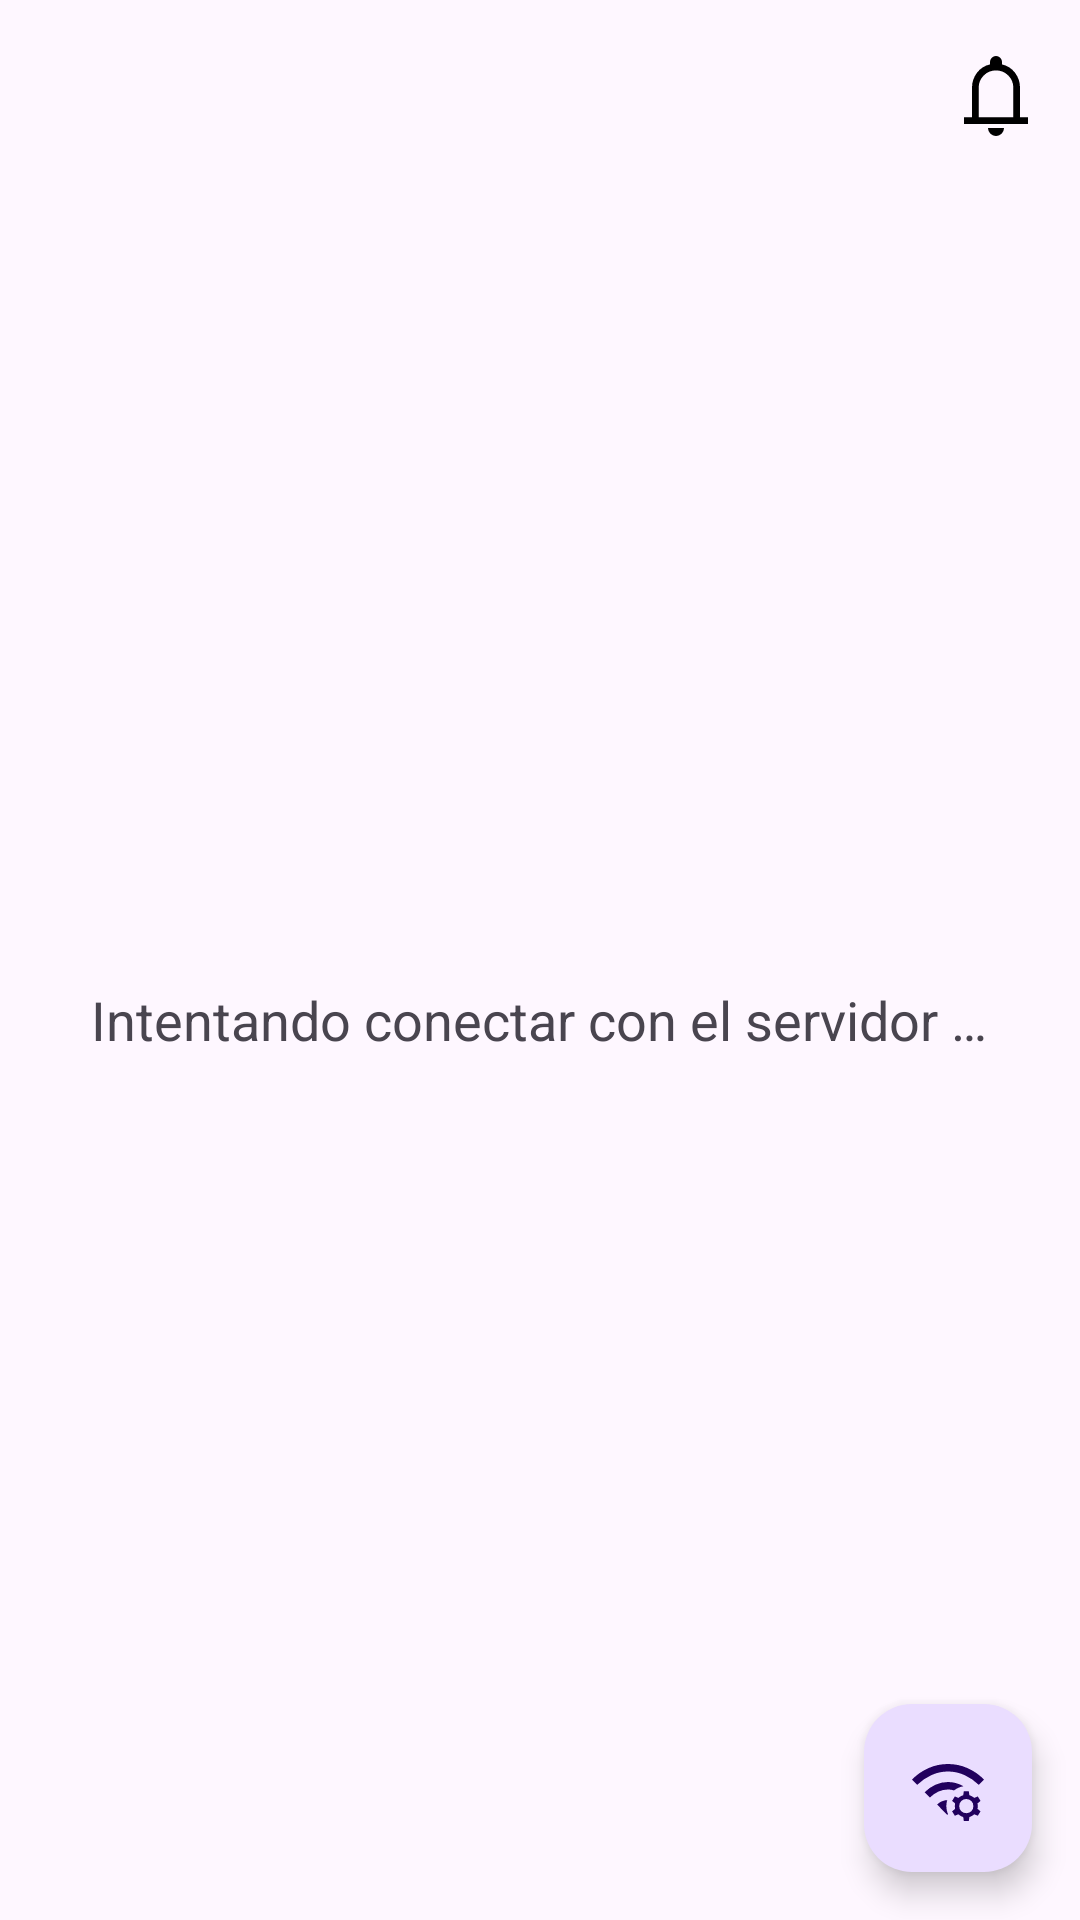

Icon bounding boxes for this 1080×1920 phone screenshot, format [x1,y1,x2,y2]:
Navega a la pantalla de configuración: [864,1704,1032,1872]
